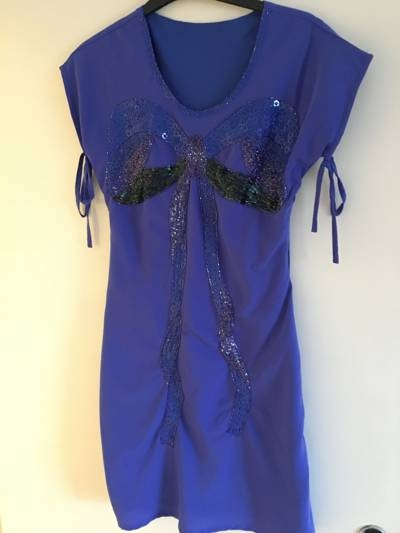Dress: (39, 4, 360, 527)
